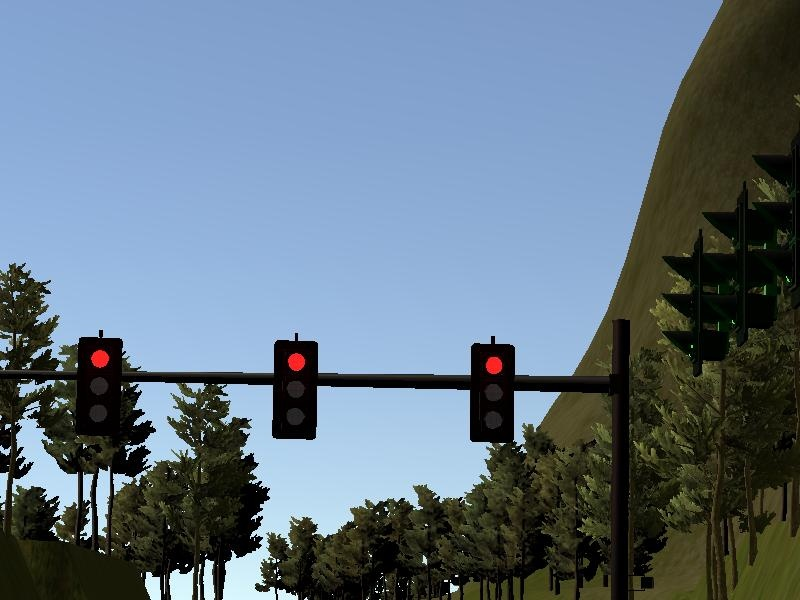red: (271, 334, 322, 442), (75, 333, 126, 438), (468, 339, 518, 446)
